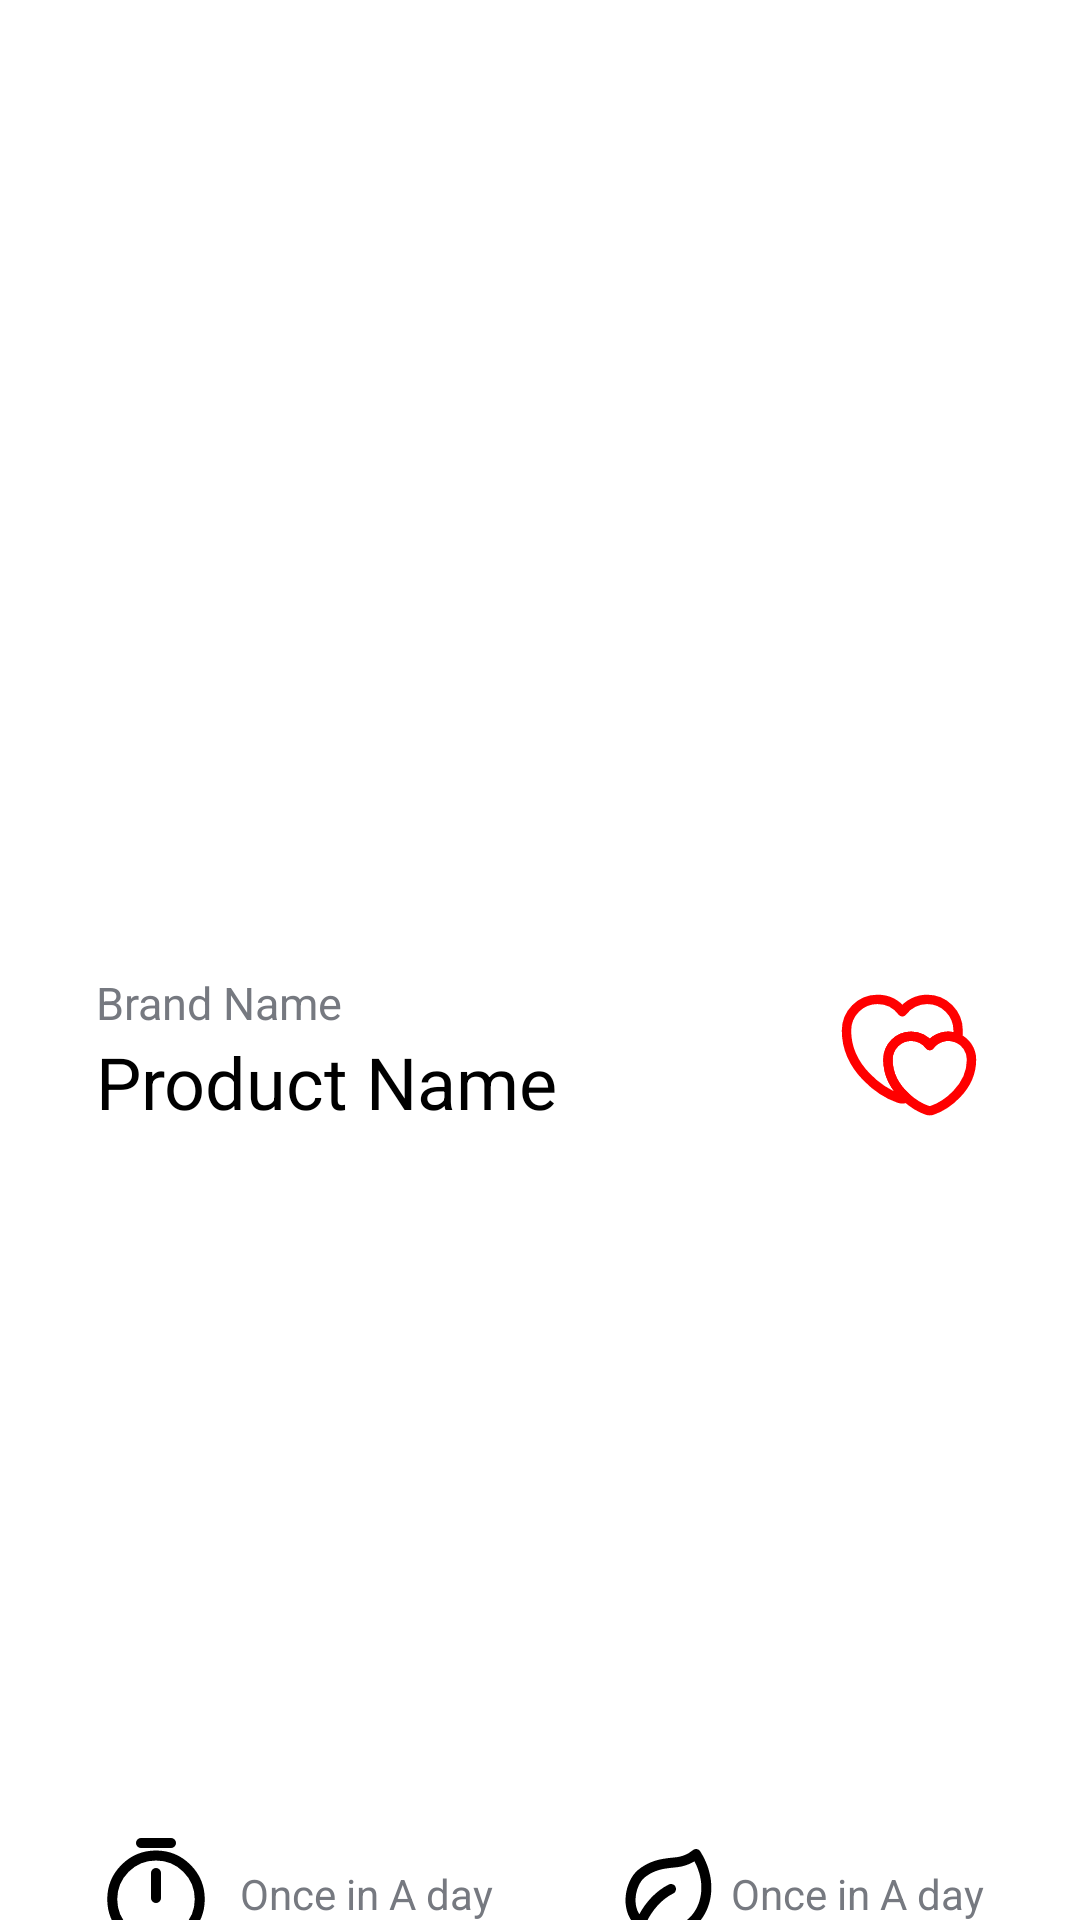

Icon click points for this 1080×1920 phone screenshot, format point (x, y):
favorite border: point (909, 1055)
